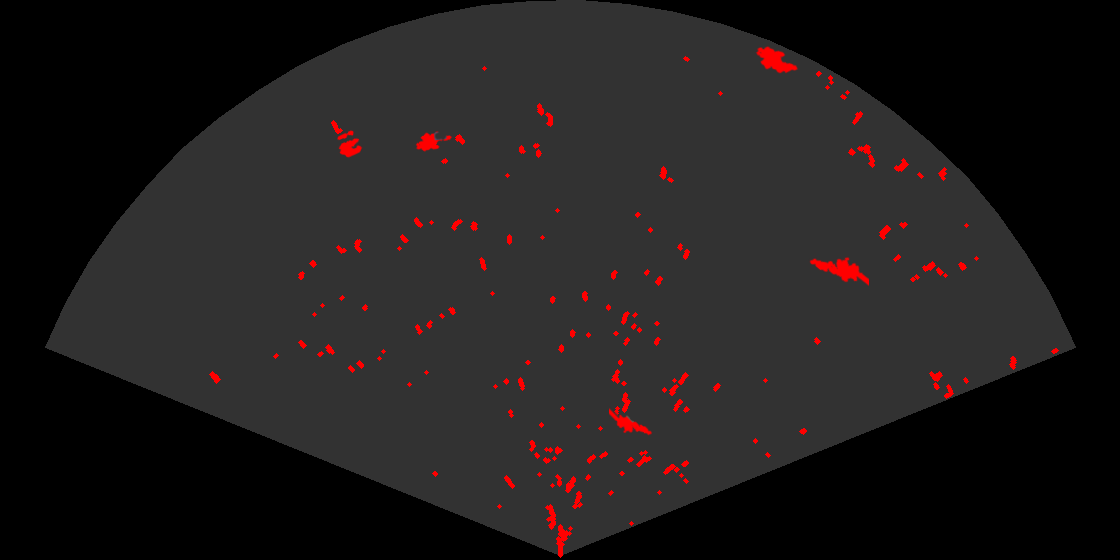AUV: (754, 45, 800, 75), (414, 129, 454, 153)
ball: (336, 129, 364, 159)
frogman: (808, 255, 869, 288), (609, 406, 654, 437)
